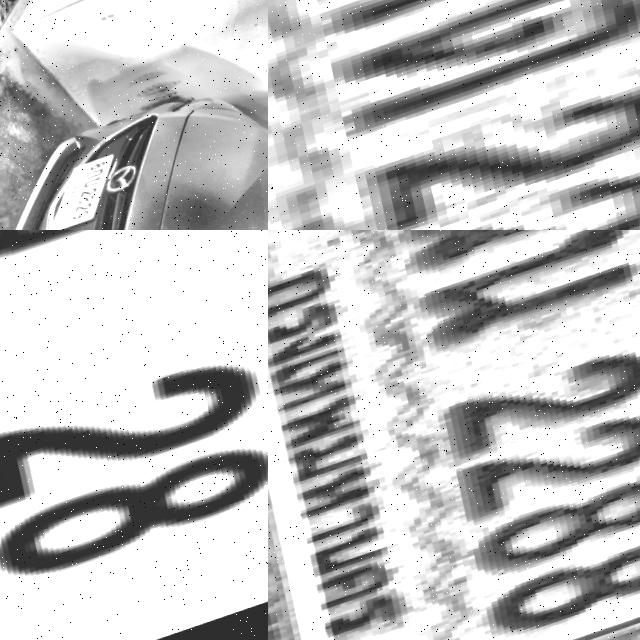license-plate: (268, 230, 640, 640), (0, 230, 268, 640), (268, 0, 640, 230), (37, 155, 130, 230)
